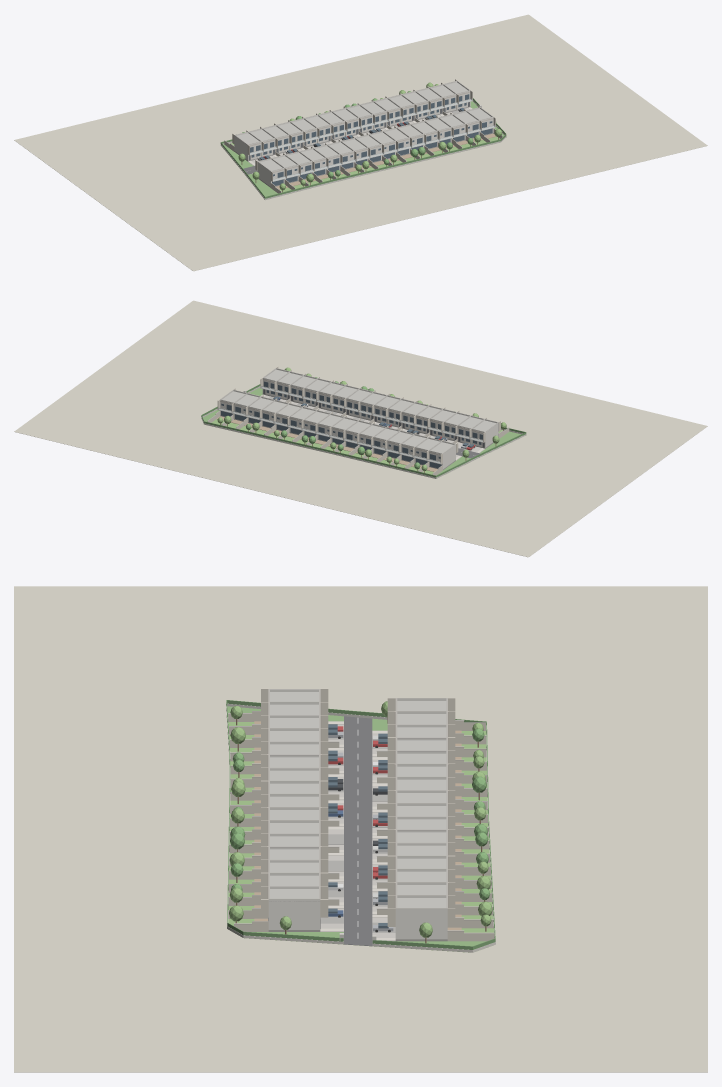
3 views of the same model, one above another, from view 1: azimuth 30°, elevation 25°; view 2: azimuth 150°, elevation 25°; view 3: azimuth 270°, elevation 25° (orthographic). The views are drawn at different scales.
Visible parts, largest first — view 1: zemin__zemin, villa__duvar, villa__cakil, villa__cam, villa__harpusta, villa__duvar2, villa__korkuluk, villa__perde, peyzaj__cit, peyzaj__perde, agac__yaprak2, peyzaj__bahce_duv (+3 smaller); view 2: zemin__zemin, villa__duvar, villa__cakil, villa__cam, villa__harpusta, villa__duvar2, villa__korkuluk, villa__perde, peyzaj__cit, peyzaj__perde, peyzaj__bahce_duv, peyzaj__cim (+3 smaller); view 3: zemin__zemin, villa__cakil, peyzaj__perde, villa__duvar, villa__perde, yol__asfalt, villa__harpusta, peyzaj__cim, agac__yaprak2, peyzaj__cit, peyzaj__parke, agac__yaprak (+8 smaller).
Part boxes in pixels (<box>): zemin__zemin: <box>14,14,707,271</box>; villa__duvar: <box>234,81,495,186</box>; villa__cakil: <box>237,82,490,170</box>; villa__cam: <box>249,94,492,185</box>; villa__harpusta: <box>234,80,493,171</box>; villa__duvar2: <box>250,92,493,183</box>; villa__korkuluk: <box>250,99,495,181</box>; villa__perde: <box>232,79,495,181</box>; peyzaj__cit: <box>220,98,506,198</box>; peyzaj__perde: <box>224,112,502,193</box>; agac__yaprak2: <box>238,82,501,190</box>; peyzaj__bahce_duv: <box>220,100,506,200</box>; zemin__zemin: <box>14,300,707,557</box>; villa__duvar: <box>218,368,498,468</box>; villa__cakil: <box>222,369,495,453</box>; villa__cam: <box>221,381,483,468</box>; villa__harpusta: <box>220,368,498,453</box>; villa__duvar2: <box>220,379,483,466</box>; villa__korkuluk: <box>218,386,482,463</box>; villa__perde: <box>217,366,500,464</box>; peyzaj__cit: <box>201,384,526,477</box>; peyzaj__perde: <box>207,399,509,475</box>; peyzaj__bahce_duv: <box>201,386,526,478</box>; peyzaj__cim: <box>211,419,503,474</box>; zemin__zemin: <box>14,586,707,1072</box>; villa__cakil: <box>269,692,446,907</box>; peyzaj__perde: <box>228,711,494,941</box>; villa__duvar: <box>268,689,447,939</box>; villa__perde: <box>261,688,455,926</box>; yol__asfalt: <box>344,716,372,946</box>; villa__harpusta: <box>268,689,447,908</box>; peyzaj__cim: <box>228,722,493,952</box>; agac__yaprak2: <box>229,701,492,937</box>; peyzaj__cit: <box>226,700,495,949</box>; peyzaj__parke: <box>320,721,395,941</box>; agac__yaprak: <box>230,728,489,899</box>.
Size of the model in its own units: 244 by 7.75 by 147.
